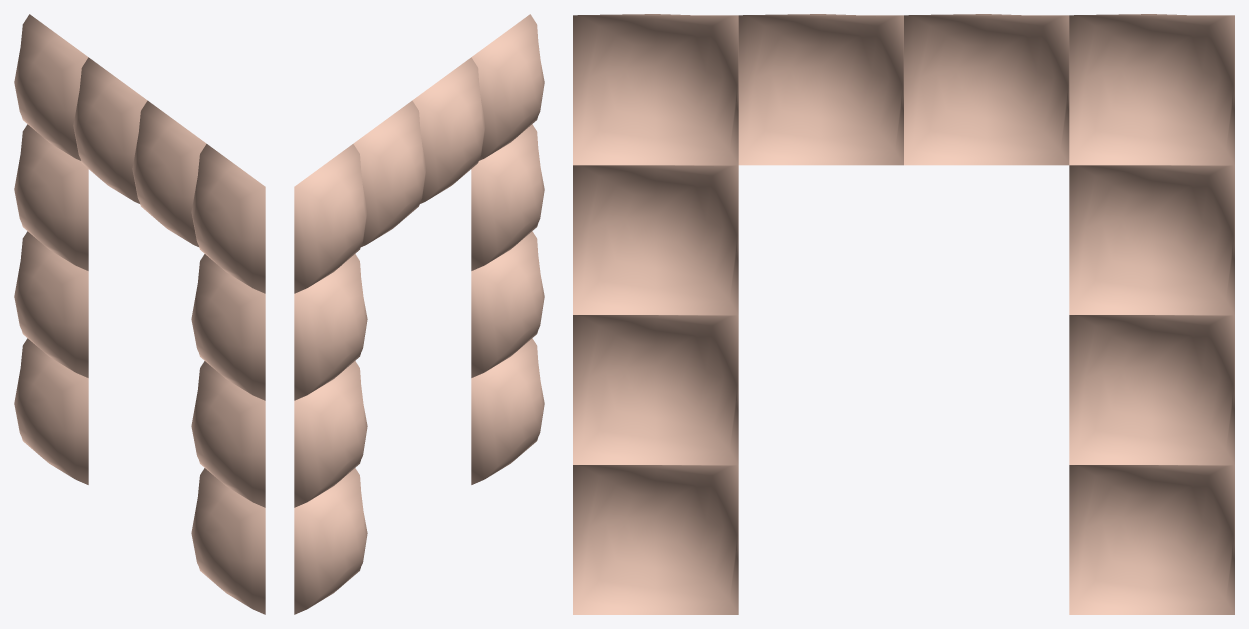
File: m_anthony_roomStructure_doorframe_b.fbx
3 renders of one model, left to right at view 1: azimuth 30°, elevation 25°; view 2: azimuth 150°, elevation 25°; view 3: azimuth 270°, elevation 25°, orthographic. The views are drawn at different scales.
Visible parts, largest first — view 1: m_anthony_roomStructure_doorframe_b; view 2: m_anthony_roomStructure_doorframe_b; view 3: m_anthony_roomStructure_doorframe_b.
Part boxes in pixels (left/top/right/bottom): m_anthony_roomStructure_doorframe_b: left=14, top=14, right=265, bottom=614; m_anthony_roomStructure_doorframe_b: left=294, top=14, right=544, bottom=614; m_anthony_roomStructure_doorframe_b: left=573, top=14, right=1234, bottom=614.
Size of the model in its own units: 25.49 by 300 by 300.
